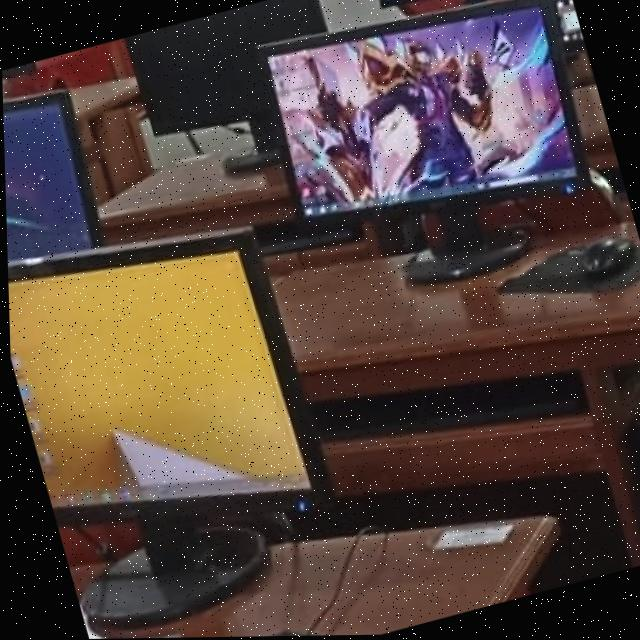offscreen: (125, 0, 325, 133)
onscreen: (6, 230, 326, 564), (257, 0, 584, 220), (2, 91, 98, 259)
